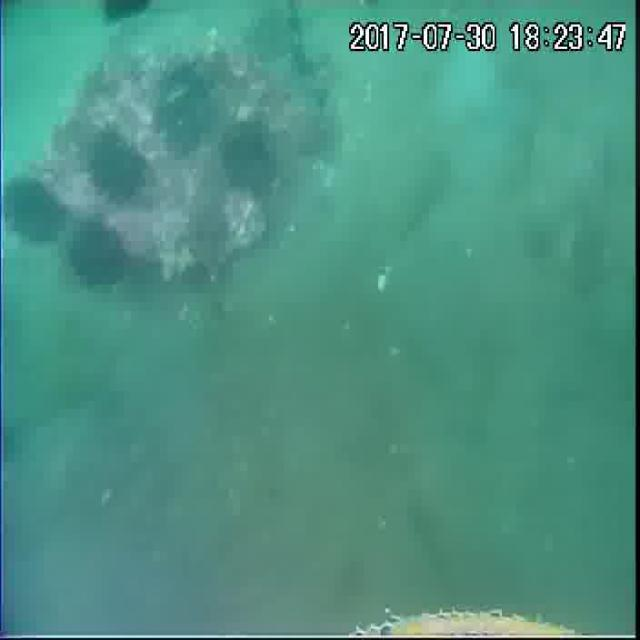echinus: (152, 62, 224, 160), (64, 214, 132, 296), (217, 117, 283, 201), (0, 170, 69, 249), (85, 129, 150, 204), (96, 0, 156, 30)
